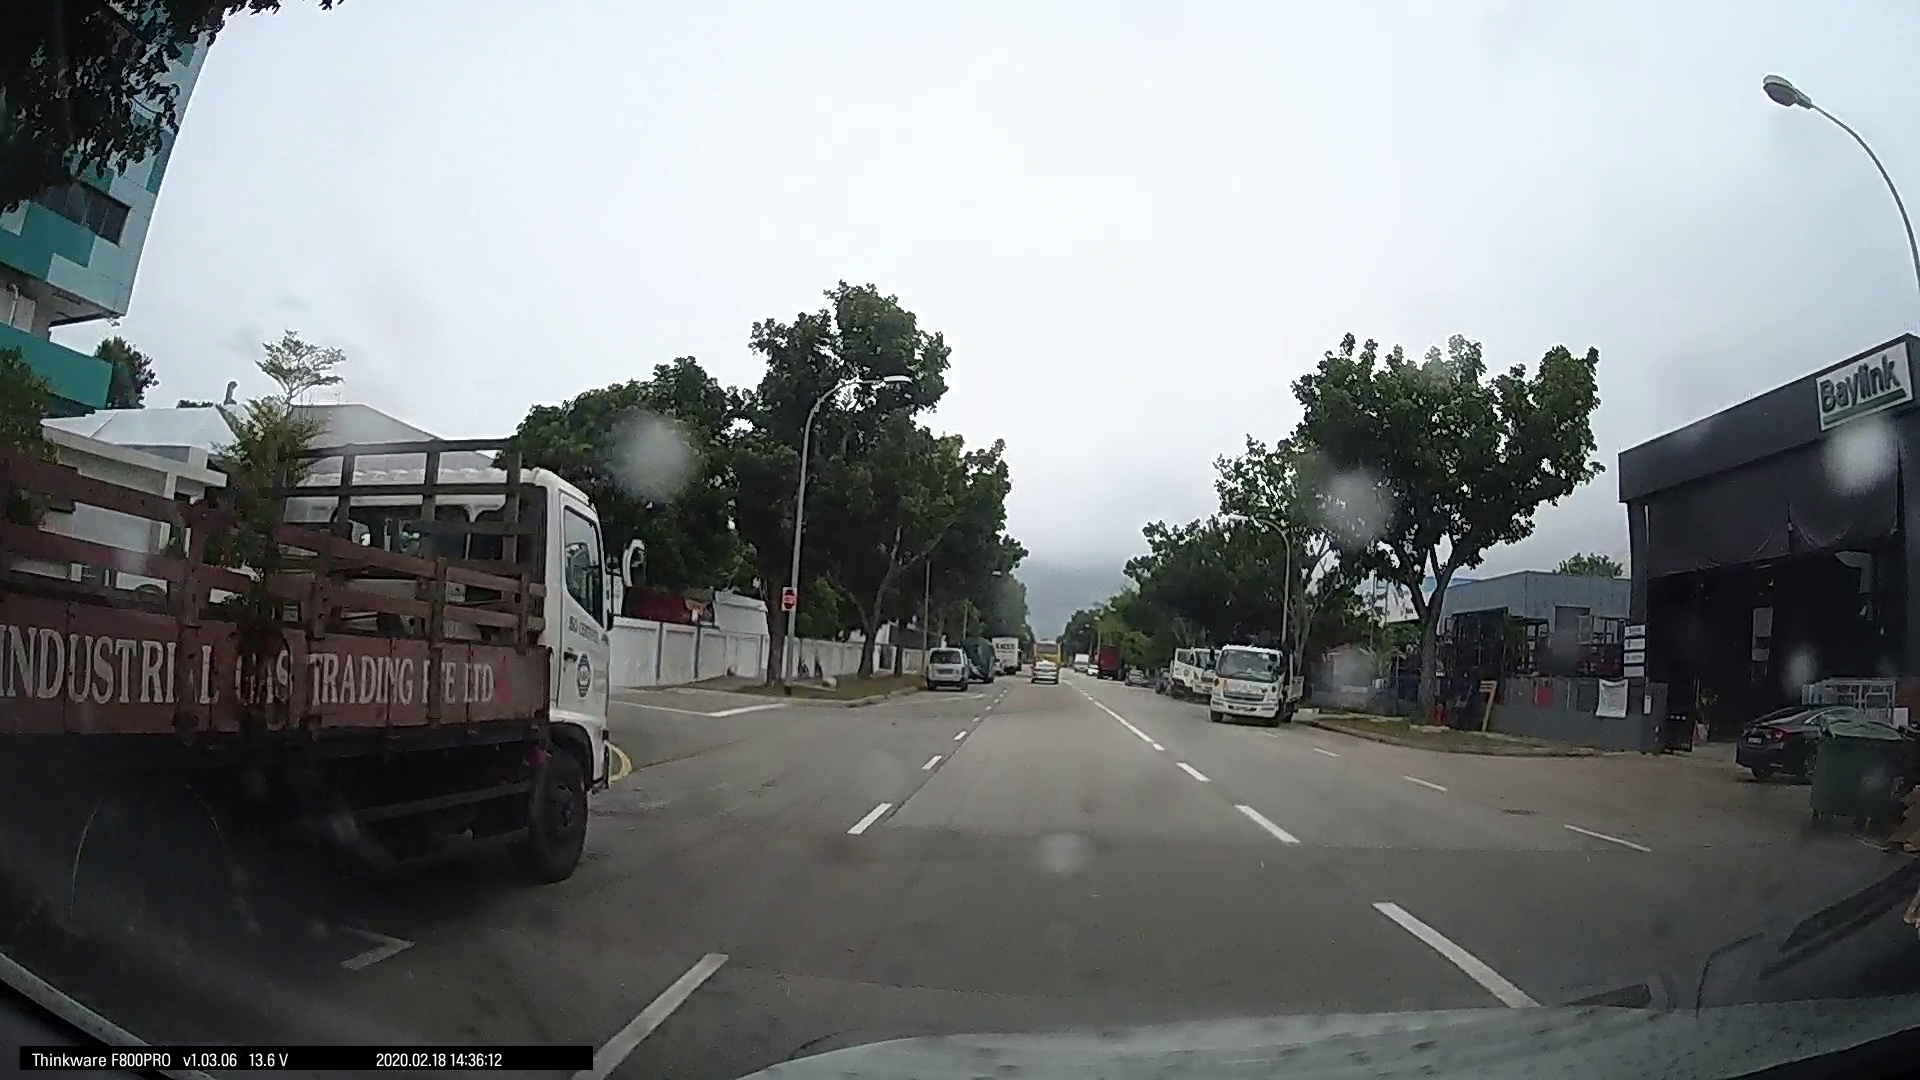Heavy Vehicle: (13, 429, 622, 914), (1203, 636, 1288, 724), (1156, 647, 1207, 696)
Light Vehicle: (1733, 695, 1853, 775), (919, 640, 975, 691), (1023, 645, 1058, 680)
